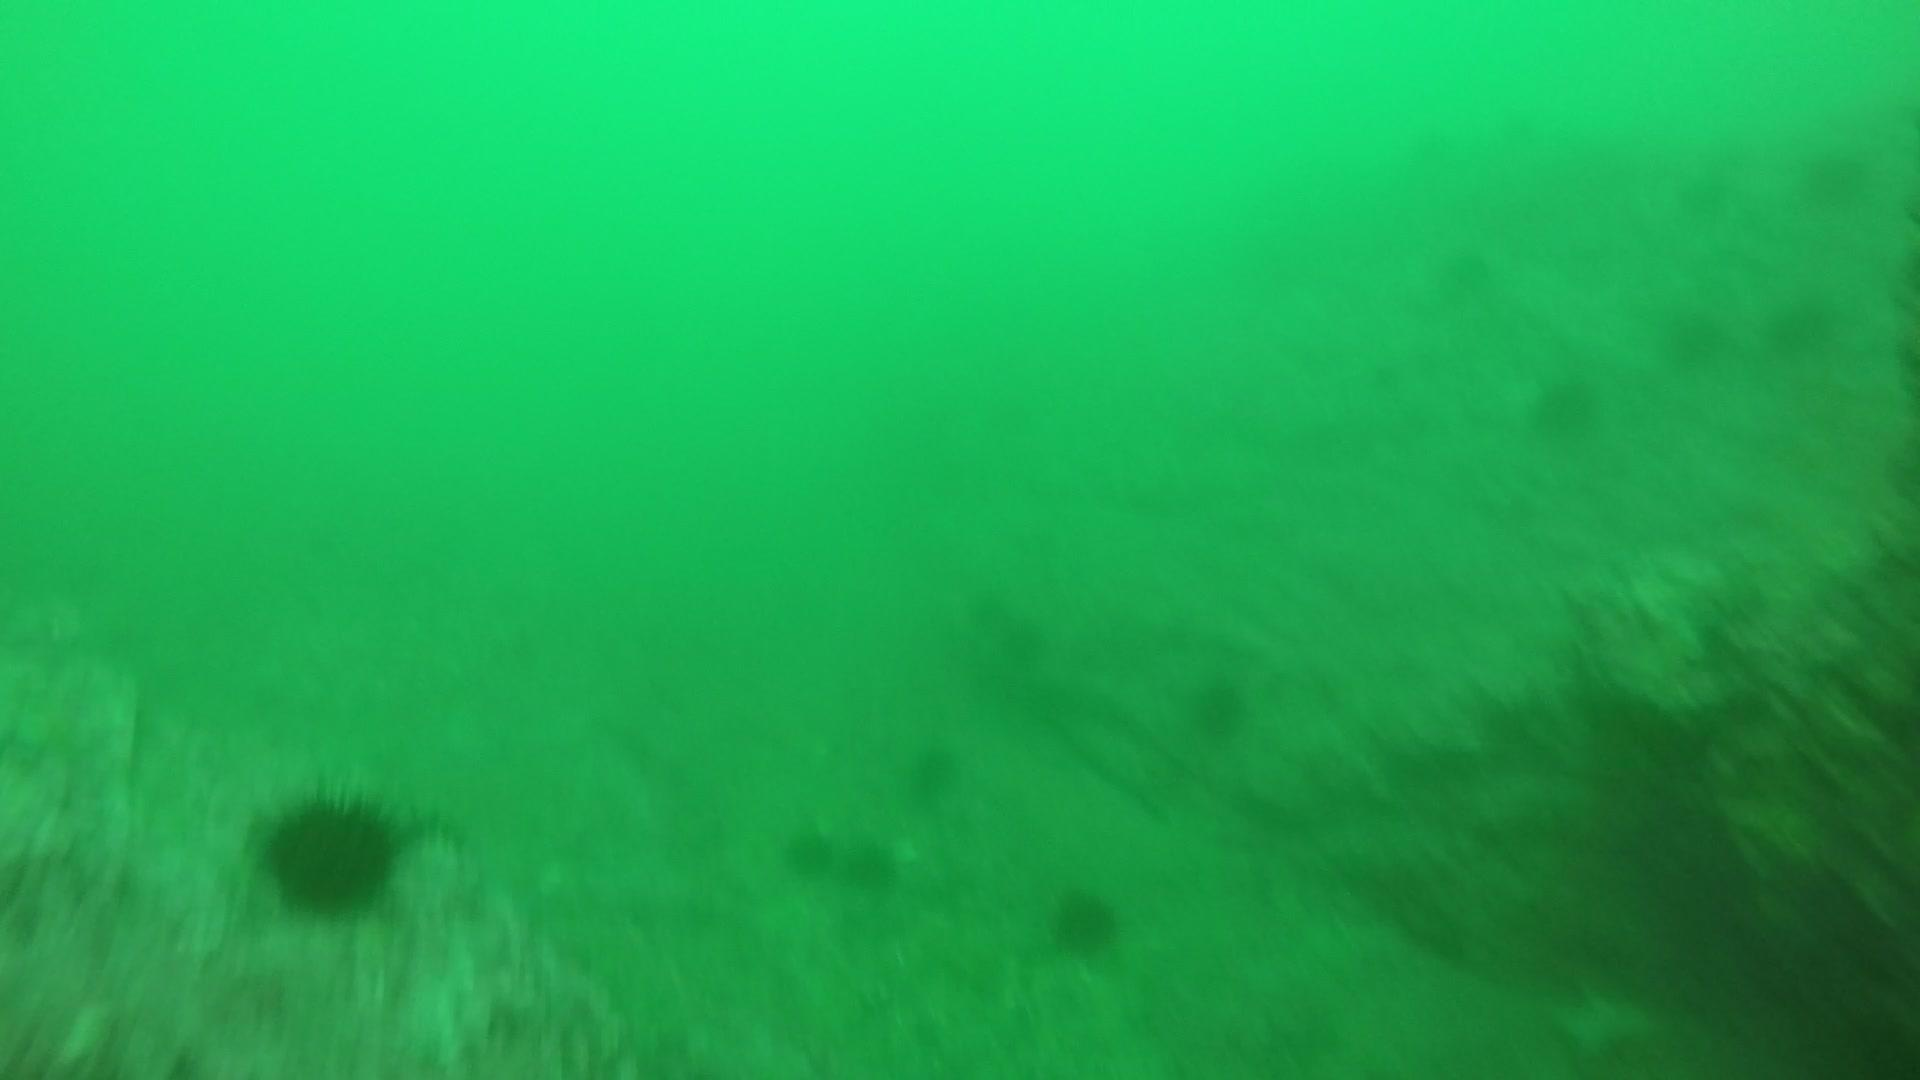echinus: (251, 779, 410, 922), (1043, 880, 1127, 960), (1760, 287, 1844, 363), (1526, 365, 1606, 440), (1795, 137, 1876, 210), (1654, 299, 1731, 371), (1182, 669, 1254, 741), (899, 736, 967, 802), (777, 819, 844, 885), (832, 833, 907, 891)
starfish: (1548, 978, 1663, 1069)
